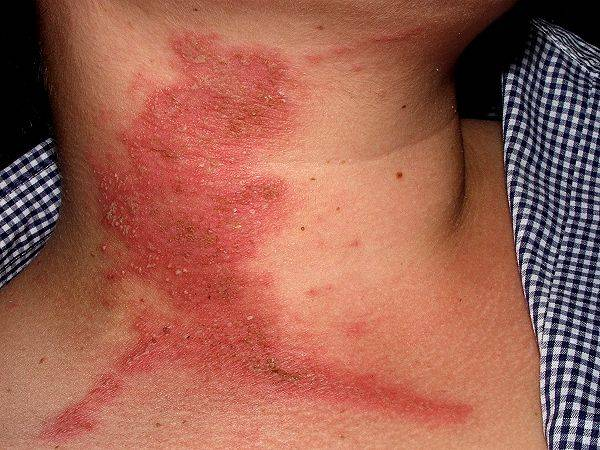Eczema: (85, 60, 300, 363)
